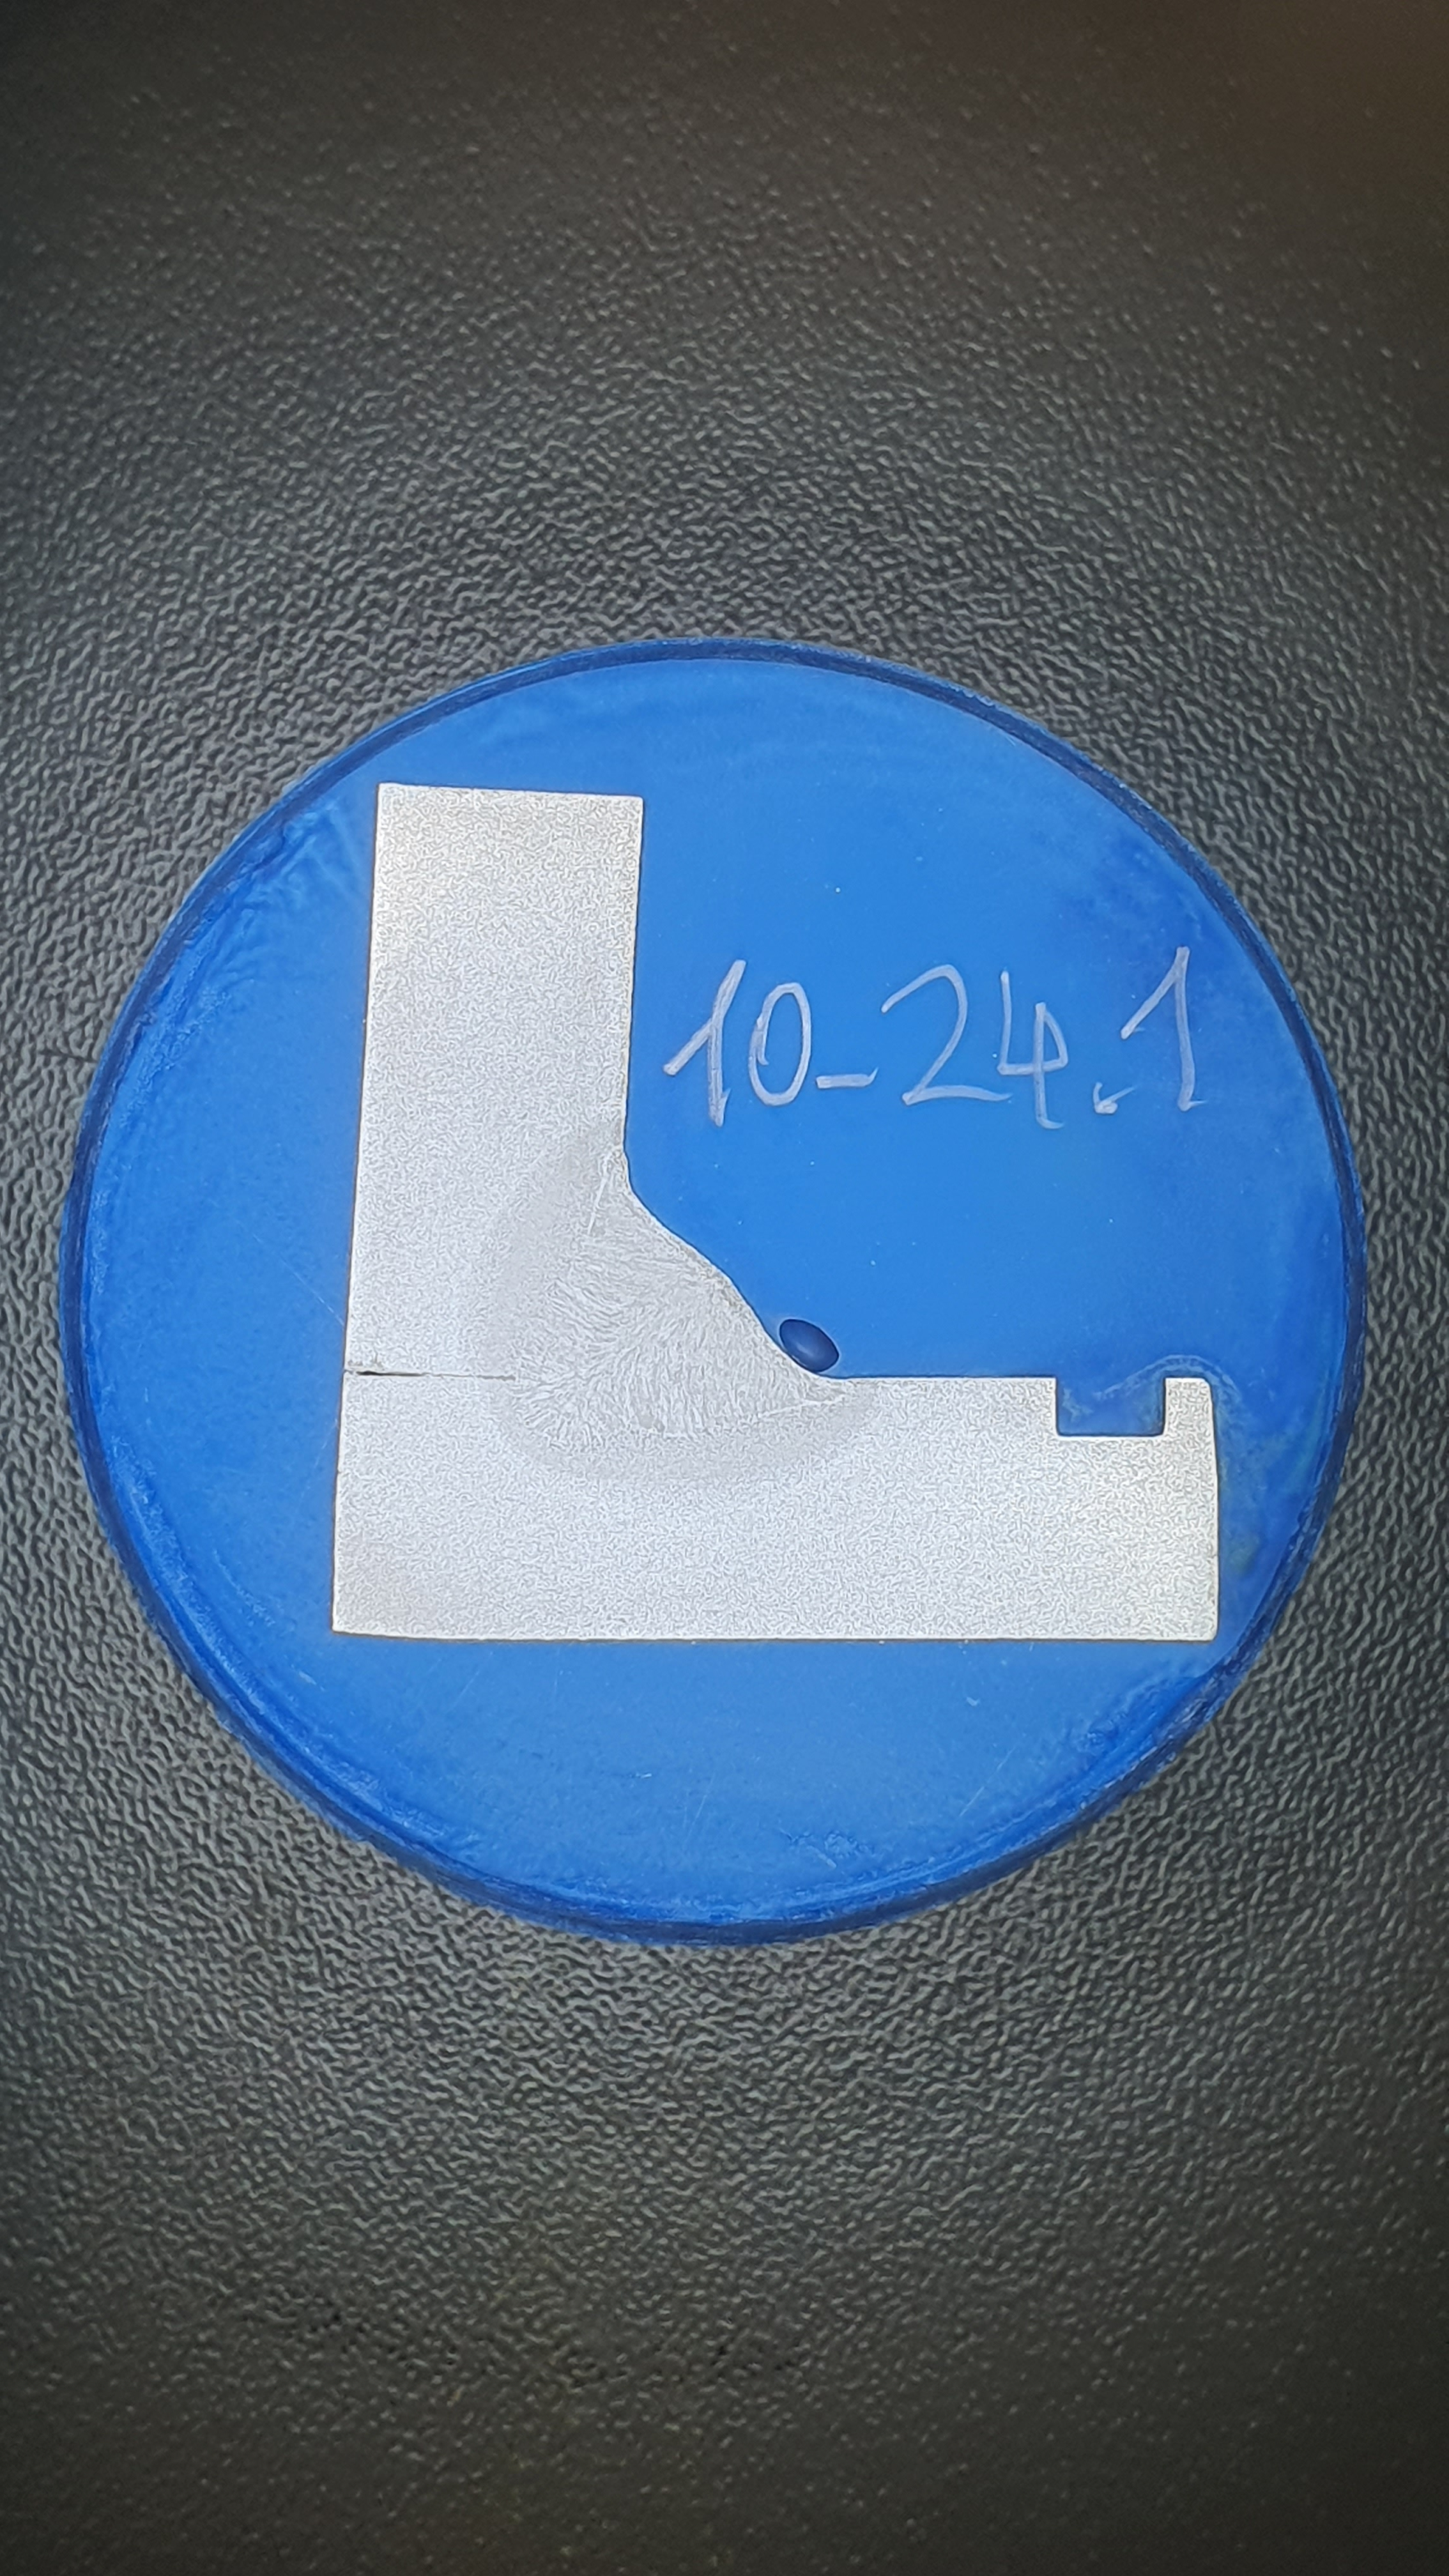Fusion: (514, 1142, 845, 1455)
Hintergrund: (82, 658, 1347, 1922)
Metall: (331, 781, 1219, 1641)
Nebenbereich: (460, 1107, 880, 1483)
